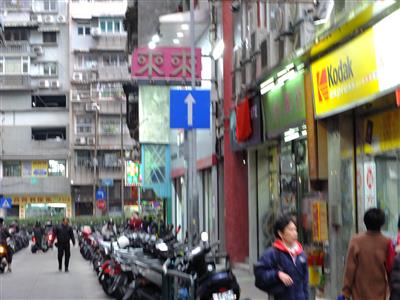oneway: (167, 86, 214, 132)
